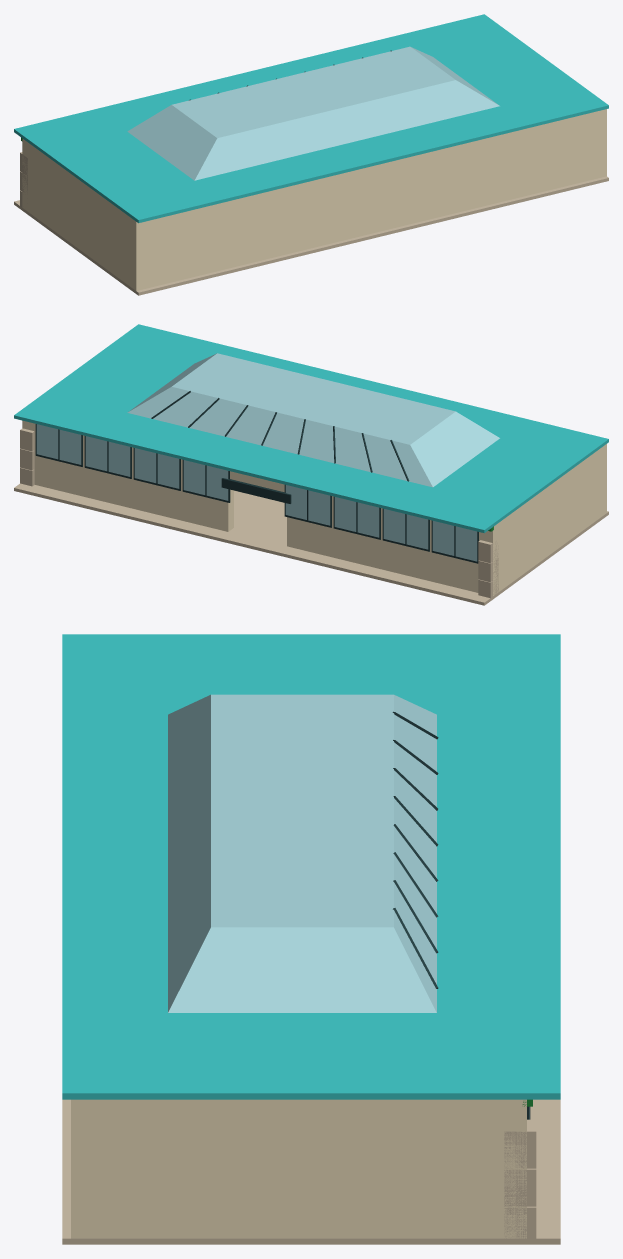
The model's file is reptile_house_building.fbx.
3 renders of one model, top to bottom at view 1: azimuth 30°, elevation 25°; view 2: azimuth 150°, elevation 25°; view 3: azimuth 270°, elevation 25°, orthographic. The views are drawn at different scales.
Parts seen in each view (by area): view 1: reptile_house_building; view 2: reptile_house_building; view 3: reptile_house_building.
Boxes of the visible parts, bbox=[...] form: reptile_house_building: bbox=[14, 14, 608, 295]; reptile_house_building: bbox=[14, 324, 608, 605]; reptile_house_building: bbox=[62, 634, 560, 1244].
Size of the model in its own units: 48 by 10 by 22.
